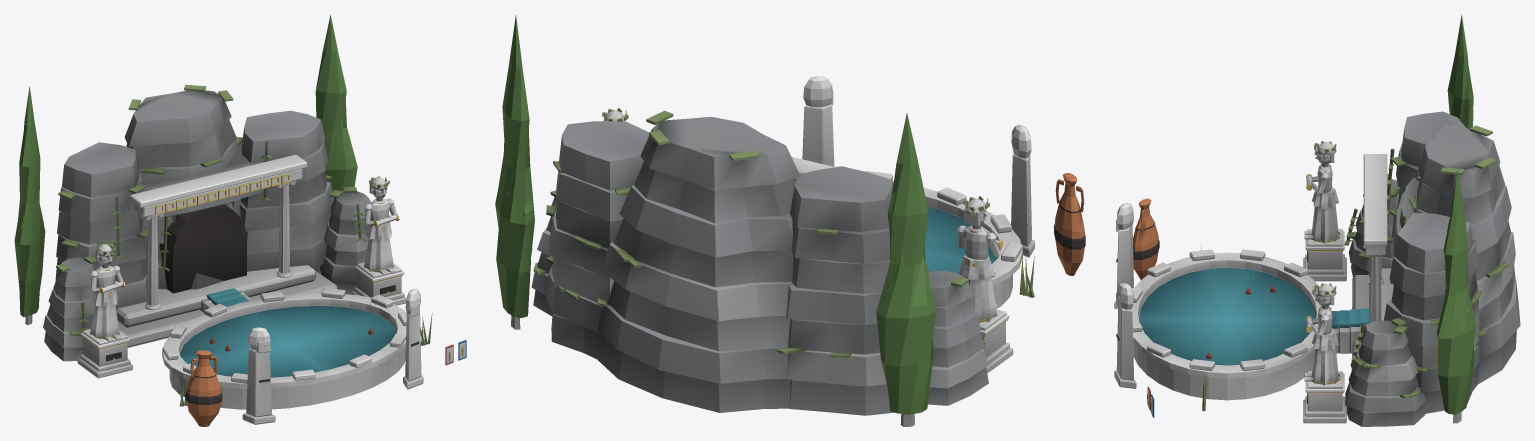
The model's file is spring-of-mnemosyne-l2.glb.
3 renders of one model, left to right at view 1: azimuth 30°, elevation 25°; view 2: azimuth 150°, elevation 25°; view 3: azimuth 270°, elevation 25°, orthographic. The views are drawn at different scales.
Parts seen in each view (by area): view 1: spring-of-mnemosyne-l2; view 2: spring-of-mnemosyne-l2; view 3: spring-of-mnemosyne-l2.
Part boxes in pixels (x1,y1,x2,y2): spring-of-mnemosyne-l2: [14, 15, 466, 426]; spring-of-mnemosyne-l2: [495, 15, 1085, 426]; spring-of-mnemosyne-l2: [1114, 14, 1520, 426].
Bounding box in the file's own units: 1.47 × 1.01 × 1.46.
